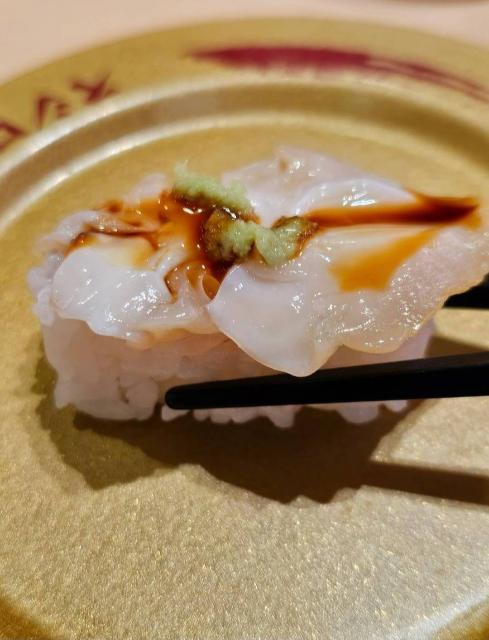jangold: (0, 19, 475, 640)
